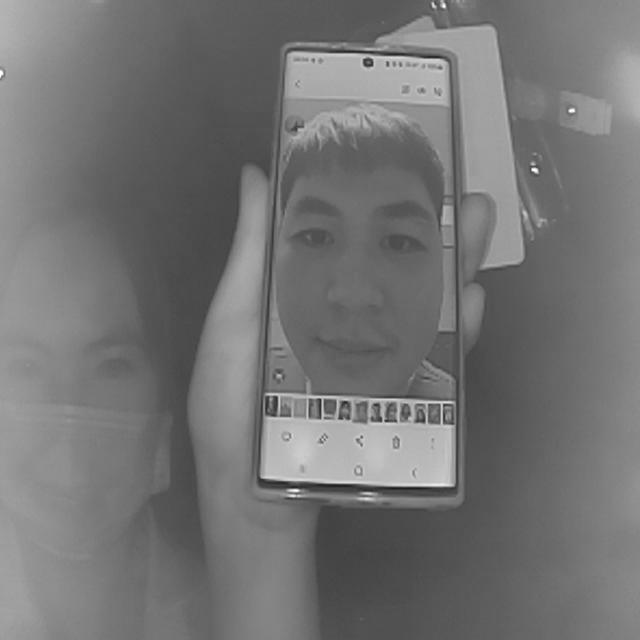fake: (246, 32, 469, 509)
